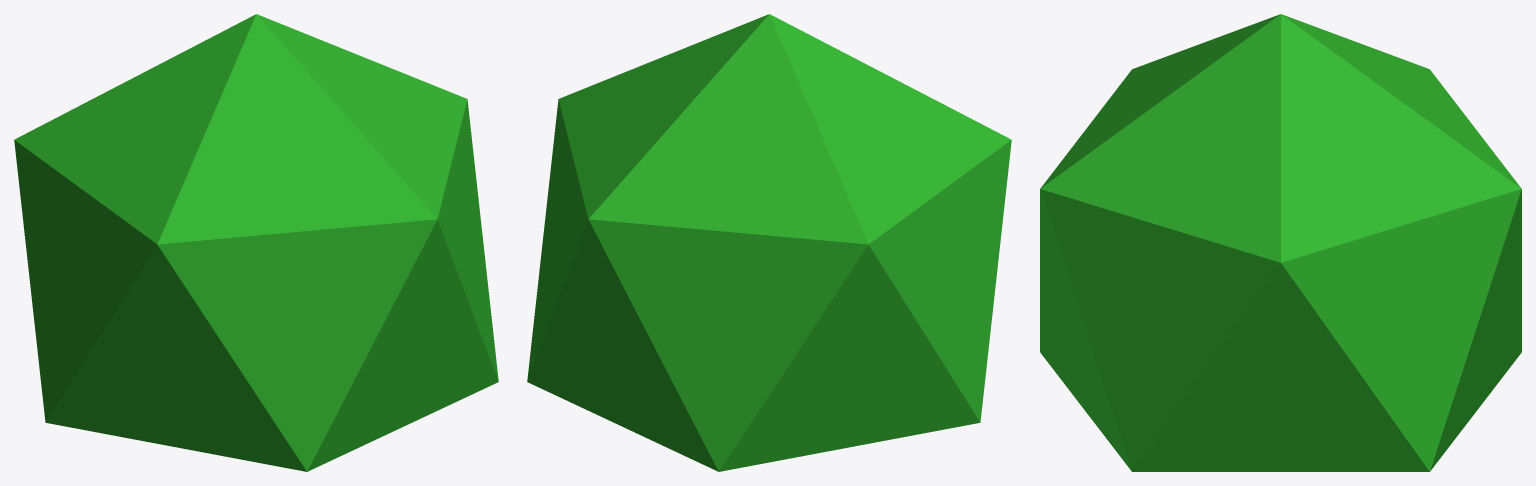
The model's file is bush.glb.
The picture shows the model from 3 angles, left to right: view 1: azimuth 30°, elevation 25°; view 2: azimuth 150°, elevation 25°; view 3: azimuth 270°, elevation 25°; orthographic projection. The views are drawn at different scales.
Parts seen in each view (by area): view 1: Icosphere; view 2: Icosphere; view 3: Icosphere.
Boxes of the visible parts, x1,y1,x2,y2 form: Icosphere: [14, 14, 498, 471]; Icosphere: [527, 14, 1011, 471]; Icosphere: [1040, 14, 1521, 471].
Size of the model in its own units: 0.5517 by 0.4674 by 0.5247.
